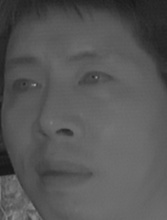eye: (77, 67, 115, 90), (7, 73, 43, 97)
mouth: (31, 156, 93, 194)
